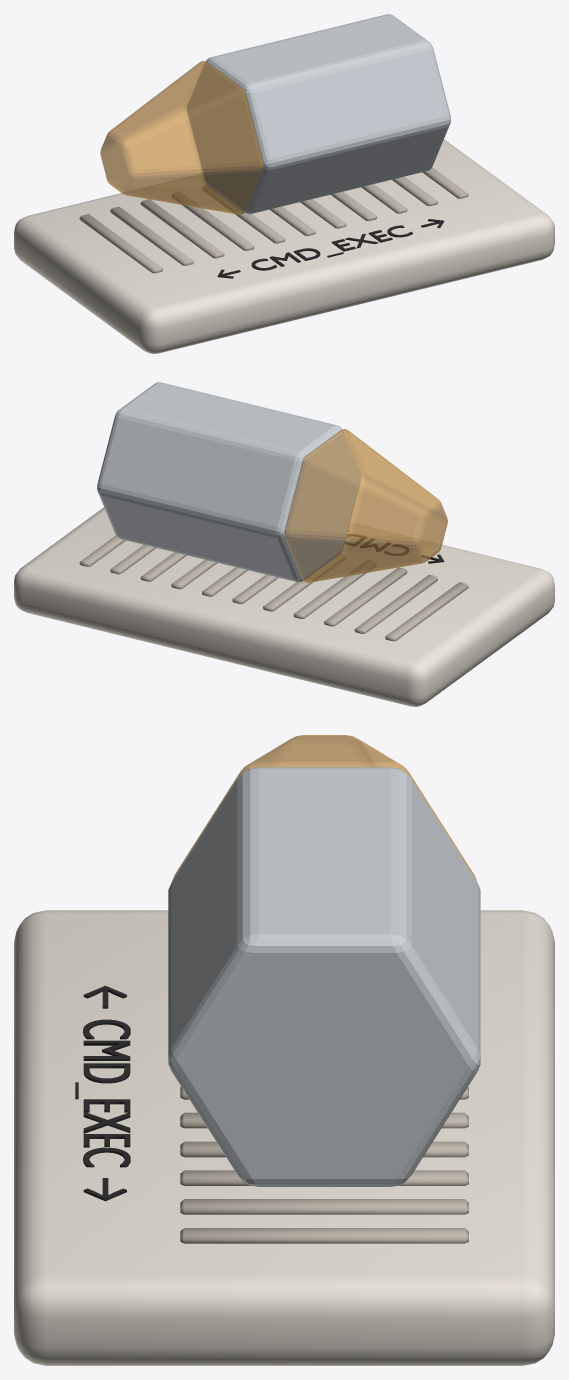
File: command.glb
The picture shows the model from 3 angles, top to bottom: view 1: azimuth 30°, elevation 25°; view 2: azimuth 150°, elevation 25°; view 3: azimuth 270°, elevation 25°; orthographic projection. The views are drawn at different scales.
Parts seen in each view (by area): view 1: CommandPad, CapsuleTail, CapsuleAmberHead, Label_CMD_EXEC, TrackRib_2, TrackRib_0, TrackRib_1, TrackRib_3, TrackRib_4, TrackRib_10, TrackRib_6, TrackRib_9 (+3 smaller); view 2: CommandPad, CapsuleTail, CapsuleAmberHead, TrackRib_0, TrackRib_2, TrackRib_1, TrackRib_3, TrackRib_4, TrackRib_10, TrackRib_7, TrackRib_6, TrackRib_8 (+3 smaller); view 3: CommandPad, CapsuleTail, TrackRib_9, TrackRib_10, Label_CMD_EXEC, CapsuleAmberHead, TrackRib_8, TrackRib_7, TrackRib_6.
Boxes of the visible parts, x1=… form: CommandPad: x1=14, y1=139, x2=554, y2=353; CapsuleTail: x1=187, y1=14, x2=450, y2=214; CapsuleAmberHead: x1=100, y1=60, x2=263, y2=214; Label_CMD_EXEC: x1=217, y1=219, x2=444, y2=278; TrackRib_2: x1=140, y1=199, x2=224, y2=258; TrackRib_0: x1=79, y1=214, x2=162, y2=273; TrackRib_1: x1=110, y1=206, x2=193, y2=265; TrackRib_3: x1=171, y1=192, x2=254, y2=250; TrackRib_4: x1=202, y1=185, x2=285, y2=243; TrackRib_10: x1=422, y1=167, x2=468, y2=198; TrackRib_6: x1=300, y1=199, x2=346, y2=228; TrackRib_9: x1=392, y1=176, x2=437, y2=206; CommandPad: x1=14, y1=507, x2=554, y2=706; CapsuleTail: x1=97, y1=382, x2=360, y2=582; CapsuleAmberHead: x1=284, y1=429, x2=447, y2=582; TrackRib_0: x1=385, y1=582, x2=468, y2=641; TrackRib_2: x1=324, y1=567, x2=407, y2=626; TrackRib_1: x1=354, y1=574, x2=437, y2=633; TrackRib_3: x1=293, y1=560, x2=376, y2=618; TrackRib_4: x1=263, y1=553, x2=345, y2=611; TrackRib_10: x1=79, y1=535, x2=125, y2=566; TrackRib_7: x1=171, y1=559, x2=217, y2=589; TrackRib_6: x1=202, y1=567, x2=247, y2=596; TrackRib_8: x1=140, y1=552, x2=186, y2=581; CommandPad: x1=14, y1=910, x2=554, y2=1365; CapsuleTail: x1=168, y1=767, x2=480, y2=1186; TrackRib_9: x1=180, y1=1199, x2=468, y2=1214; TrackRib_10: x1=180, y1=1228, x2=468, y2=1243; Label_CMD_EXEC: x1=75, y1=985, x2=130, y2=1201; CapsuleAmberHead: x1=172, y1=735, x2=476, y2=881; TrackRib_8: x1=180, y1=1170, x2=468, y2=1185; TrackRib_7: x1=180, y1=1141, x2=468, y2=1157; TrackRib_6: x1=180, y1=1112, x2=468, y2=1128.
Size of the model in its own units: 2.3 by 1.03 by 1.35.
